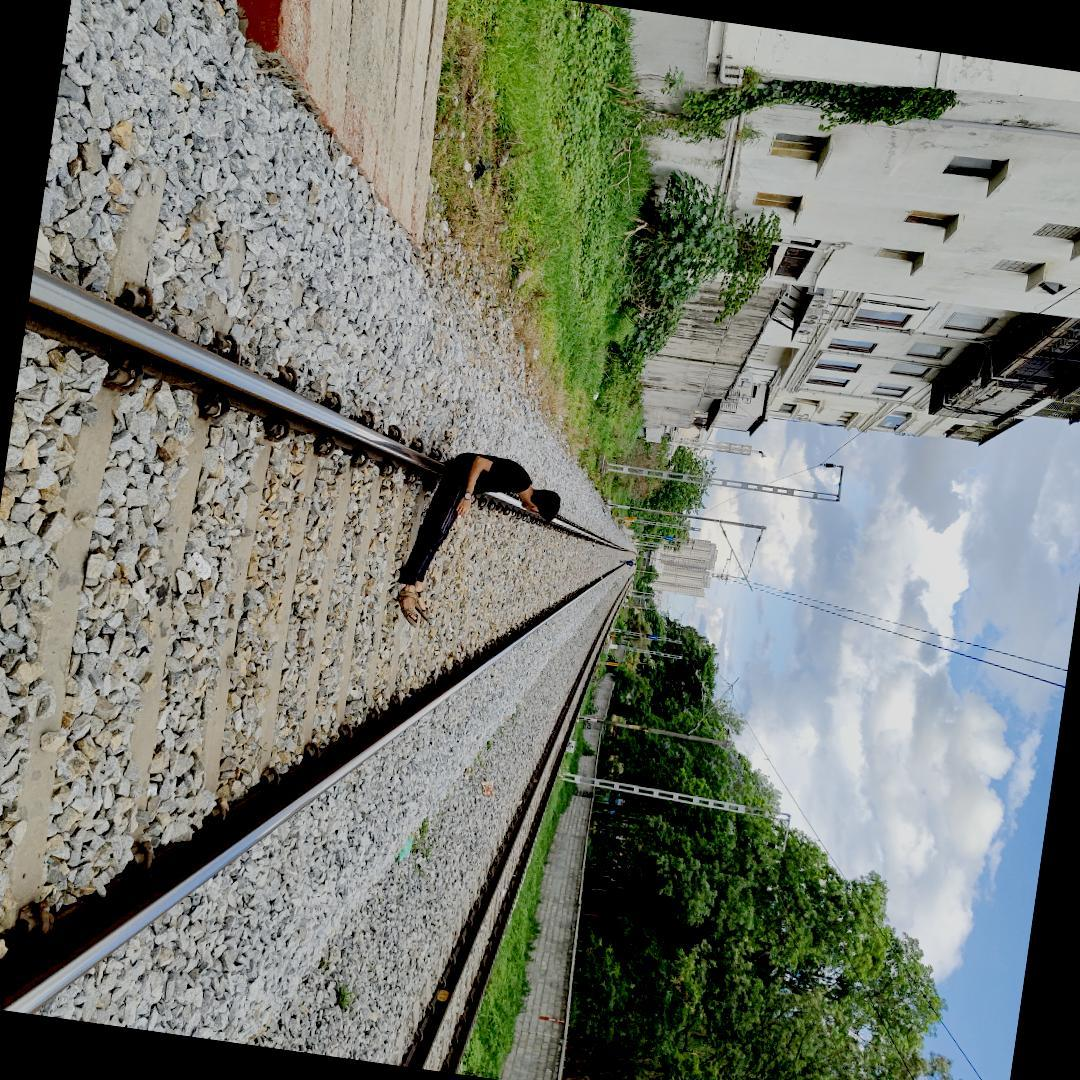sitting: (397, 436, 564, 617)
